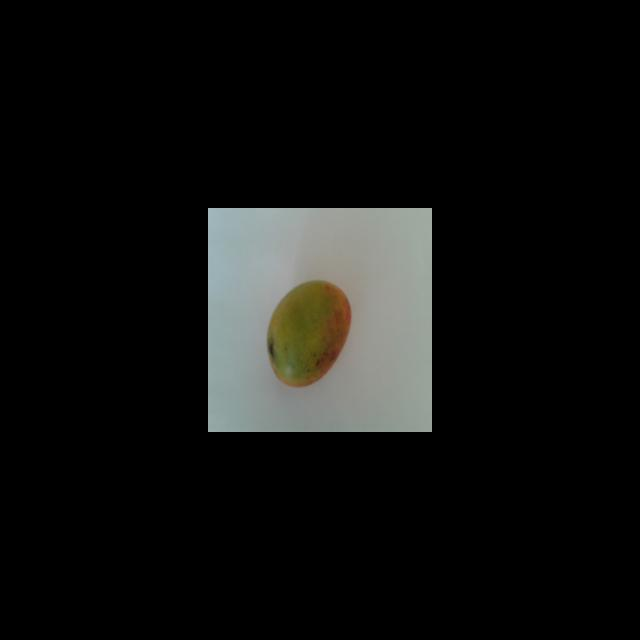Mango: (266, 279, 351, 387)
